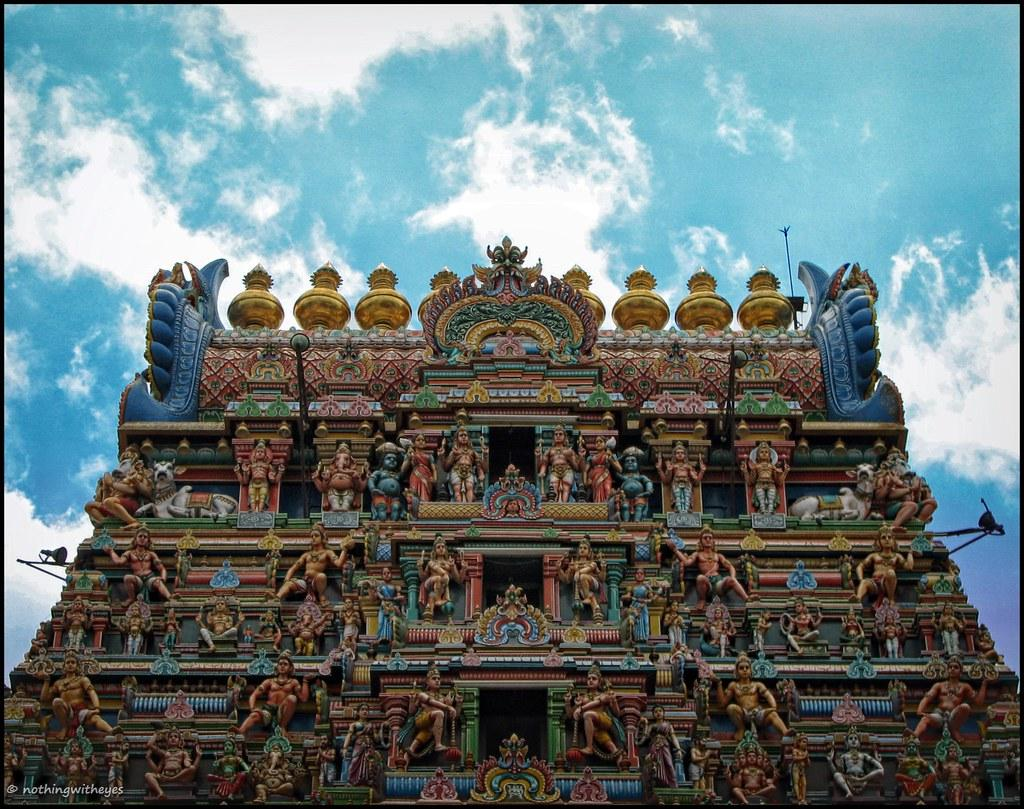temple: (4, 229, 1022, 806)
